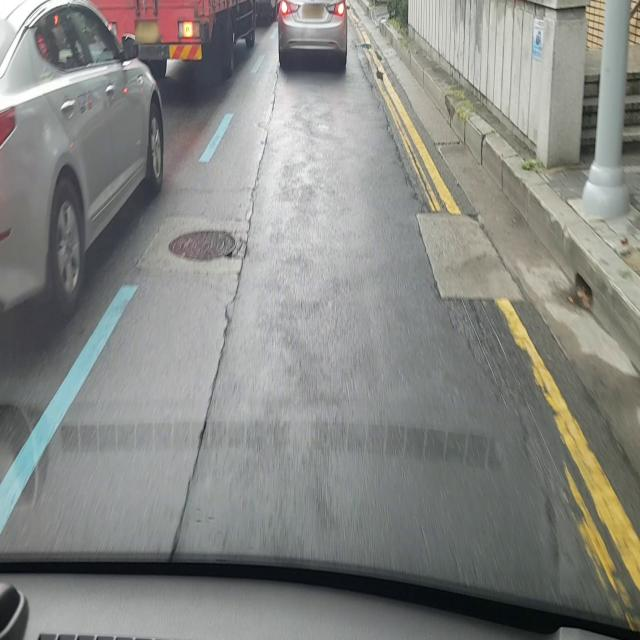Pothole: (168, 229, 248, 261)
